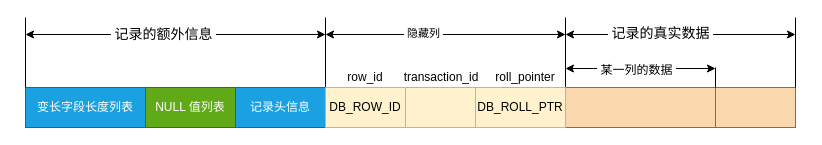
Some shapes in this 822 by 145 pixel diagram are drawn without their labels. The centre of each missing label's shape, as x and y in pixels:
"20 字节其他页数据地址" belongs at pixel 640 107.
"DB_TRX_ID" belongs at pixel 440 107.
"列n的值" belongs at pixel 755 107.
